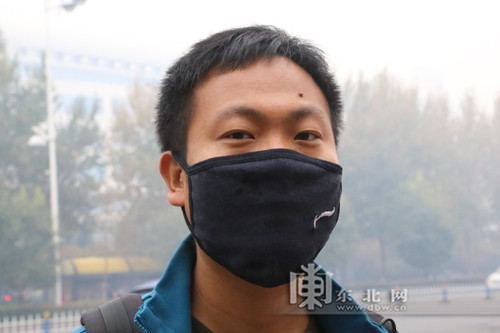mask: (167, 132, 370, 281)
